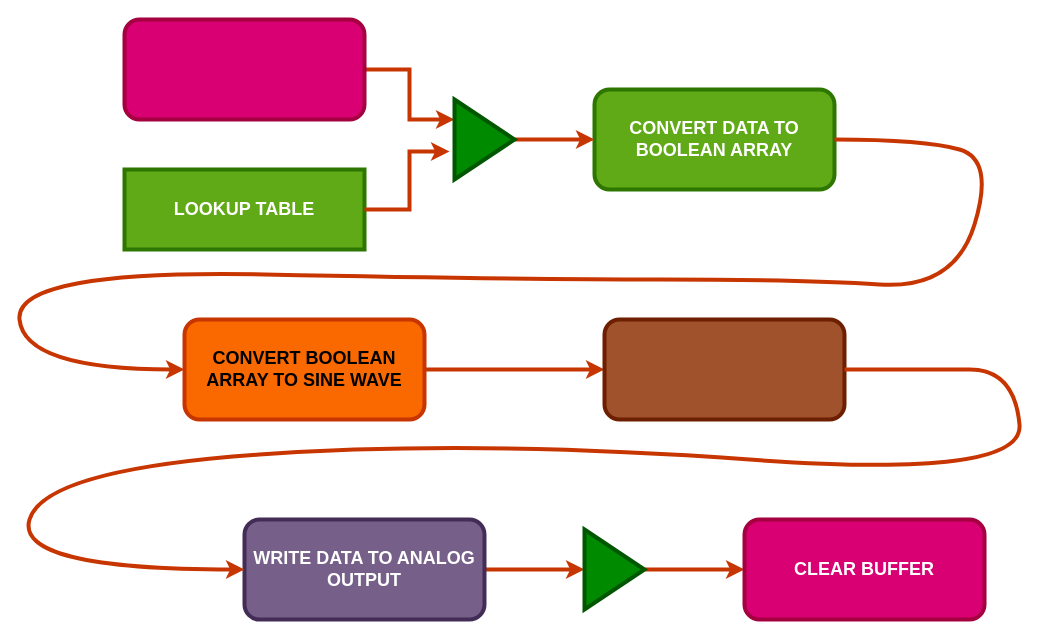
Image size: 1039x638. Some labels were removed from this diagram. The shapes that lost their labels are listed below. From the top down, each one's box as (x1, y1, x2, y2) in pixels, then its label:
(122, 17, 366, 121): INPUT DATA (STRING)
(602, 317, 846, 421): BUILD WAVEFORM
